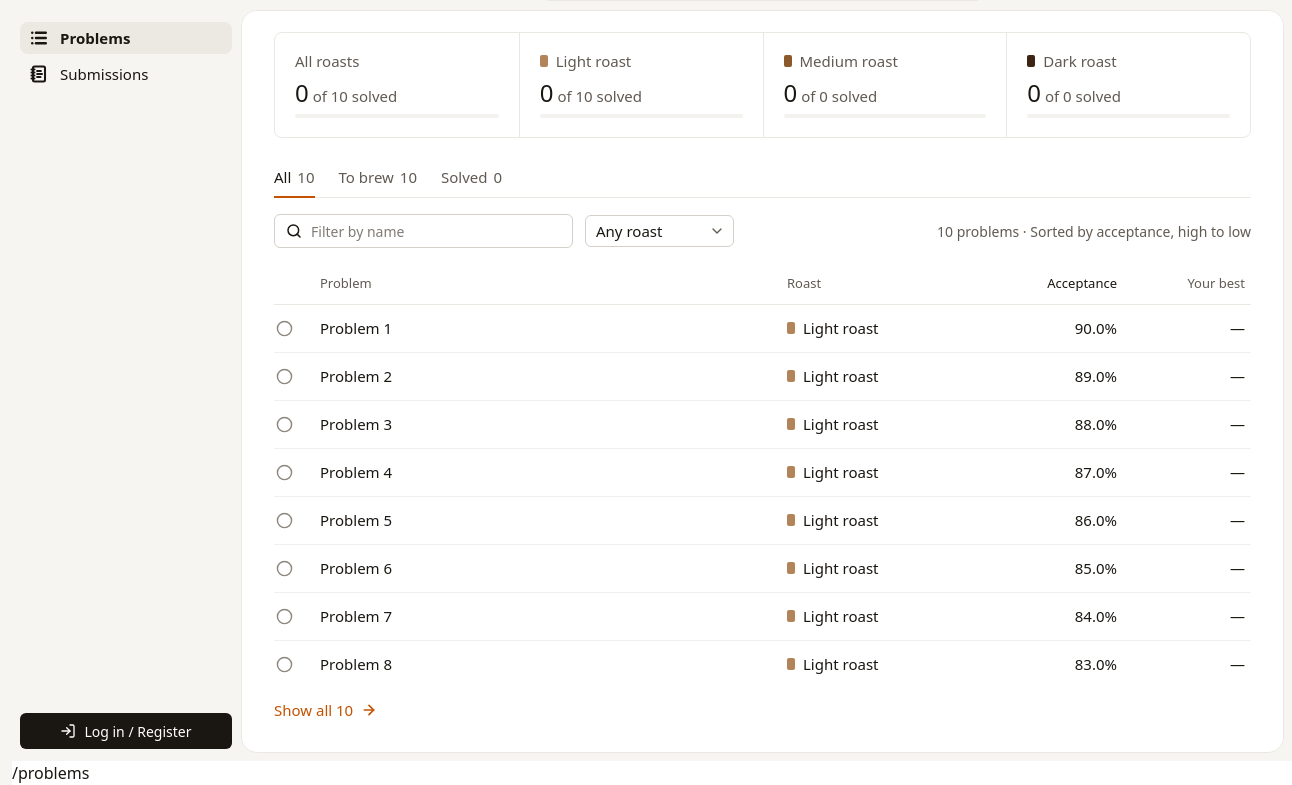
it: problems screen › shows eight rows and then Show all N
The width and height of the screenshot is (1292, 785).
(page scrolled)
expect the link "Problem 1" is shown: met, box x1=320 y1=318 x2=392 y2=338
What coordinates should you click on to do the following:
click the button "Show all 10"
I would click on:
 (326, 710)
Its box is x1=274 y1=700 x2=377 y2=720.
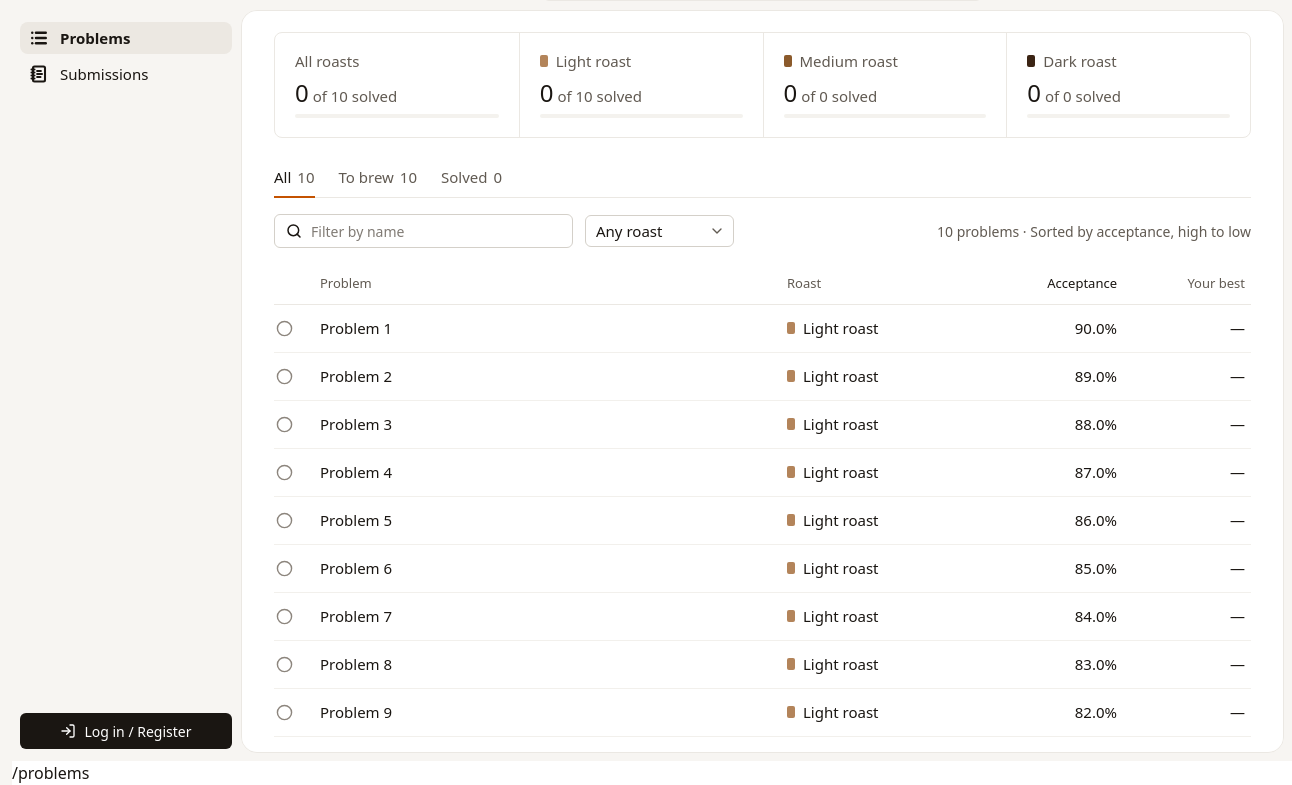
expect the button "Show all" is gone: met
